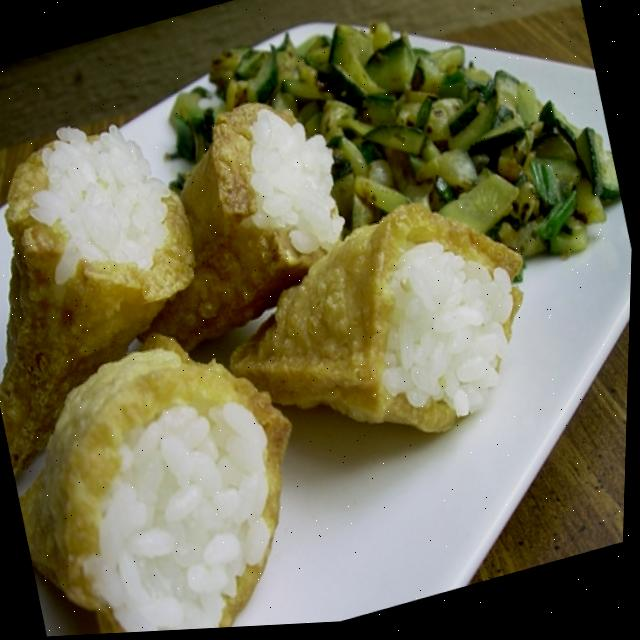寿司卷物: (0, 3, 602, 640)
